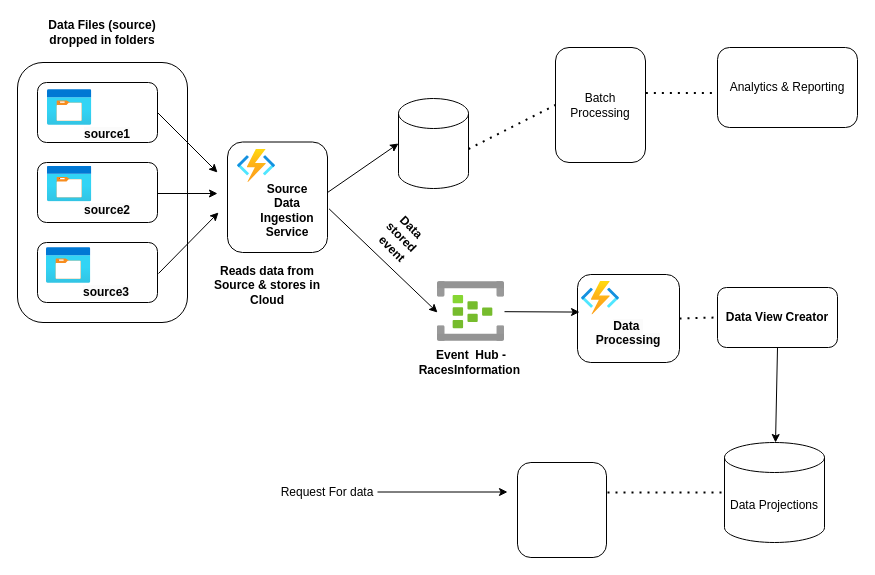
This 875x575 diagram has some shape labels left out. The shapes that lost their labels are listed below. From the top down, each one's centre as x and y in pixels, then its label:
At pixel 433 143: "Data Store".
At pixel 561 510: "Restful API To access Data".
